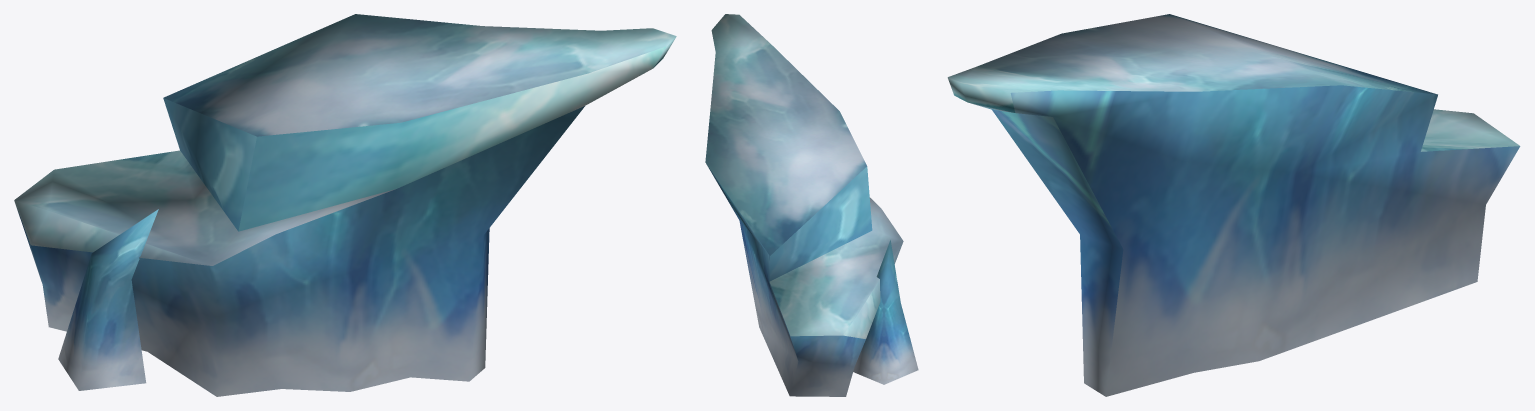
The model's file is Map_10_ice06.FBX.
The picture shows the model from 3 angles, left to right: view 1: azimuth 30°, elevation 25°; view 2: azimuth 150°, elevation 25°; view 3: azimuth 270°, elevation 25°; orthographic projection. The views are drawn at different scales.
Visible parts, largest first — view 1: Map_10_ice06; view 2: Map_10_ice06; view 3: Map_10_ice06.
Part boxes in pixels (x1=…): Map_10_ice06: x1=14, y1=14, x2=676, y2=396; Map_10_ice06: x1=705, y1=14, x2=918, y2=396; Map_10_ice06: x1=947, y1=14, x2=1520, y2=396.
Bounding box in the file's own units: 1235 × 914 × 1255.
